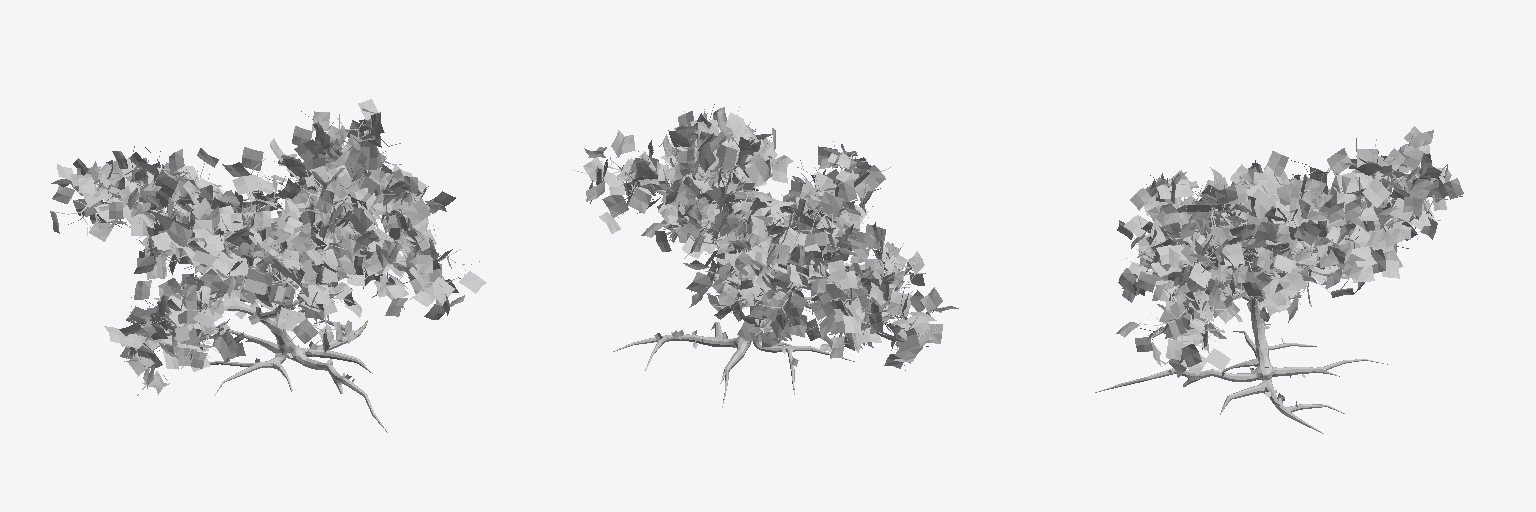
The model's file is TreeOld.obj.
3 views of the same model, side by side, from view 1: azimuth 30°, elevation 25°; view 2: azimuth 150°, elevation 25°; view 3: azimuth 270°, elevation 25° (orthographic).
Parts seen in each view (by area): view 1: Plane.1077, Plane.321, Tree, Plane.015; view 2: Plane.1077, Plane.321, Tree, Plane.015; view 3: Plane.1077, Plane.321, Tree, Plane.015.
Boxes of the visible parts, box(x1,y1,x2,y2) form: Plane.1077: box(50, 99, 486, 394); Plane.321: box(120, 148, 452, 381); Tree: box(103, 134, 460, 432); Plane.015: box(51, 111, 479, 395); Plane.1077: box(583, 107, 958, 368); Plane.321: box(623, 121, 924, 366); Tree: box(612, 135, 938, 407); Plane.015: box(574, 104, 936, 370); Plane.1077: box(1116, 126, 1463, 377); Plane.321: box(1137, 167, 1406, 406); Tree: box(1095, 168, 1419, 433); Plane.015: box(1122, 134, 1462, 364).
Size of the model in its own units: 50.08 by 33.64 by 47.97.